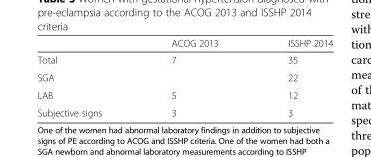table: (36, 37, 332, 118)
table column: (136, 37, 252, 118), (36, 37, 136, 118), (252, 37, 332, 118)
table column header: (36, 37, 332, 51)
table row: (36, 85, 332, 103), (36, 51, 332, 68), (36, 68, 332, 85), (36, 103, 332, 118), (36, 37, 332, 51)
